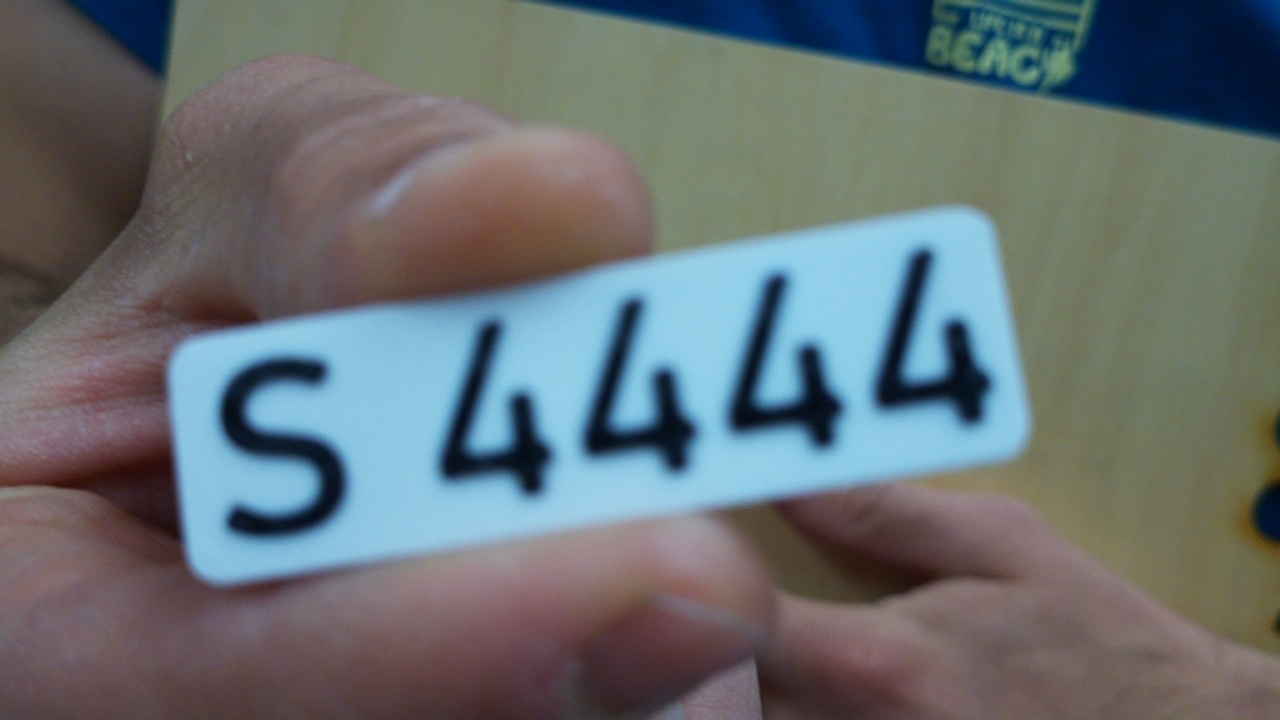license_plate: (150, 201, 1048, 594)
